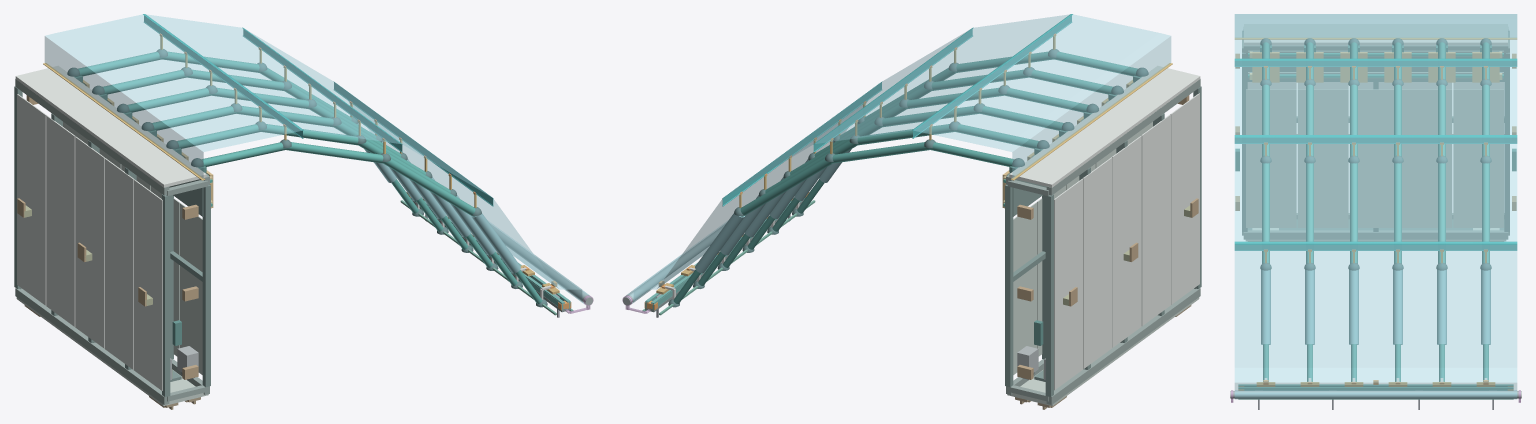
File: 01_deployed.glb
The picture shows the model from 3 angles, left to right: view 1: azimuth 30°, elevation 25°; view 2: azimuth 150°, elevation 25°; view 3: azimuth 270°, elevation 25°; orthographic projection. The views are drawn at different scales.
Visible parts, largest first — view 1: F04_CONTINUOUS_SINGLE_SHEET, M1_W01_P_wall_top_coping, M1_W01_P_outer_back_2, M1_W01_P_outer_back_4, M1_W01_P_outer_back_5, M1_W01_P_outer_back_1, M1_W01_P_outer_back_3, M1_W01_P_front_lower_1, M1_W01_F_long_0_0, M1_W01_F_post_1_0, M1_W01_F_post_0_0, F04_web3 (+24 smaller); view 2: F04_CONTINUOUS_SINGLE_SHEET, M1_W01_P_wall_top_coping, M1_W01_P_outer_back_2, M1_W01_P_outer_back_4, M1_W01_P_outer_back_5, M1_W01_P_outer_back_3, M1_W01_P_outer_back_1, M1_W01_P_front_lower_5, M1_W01_F_long_0_0, M1_W01_F_post_0_4, M1_W01_F_post_1_4, M1_W01_F_long_0_1 (+23 smaller); view 3: F04_CONTINUOUS_SINGLE_SHEET, M1_W01_P_front_lower_2, M1_W01_P_front_lower_1, M1_W01_P_front_lower_5, M1_W01_P_front_lower_4, M1_W01_P_wall_top_coping, M1_W01_P_front_lower_3, F04_front_roll_core, M1_W01_F_long_1_0, F04_web1, F04_web2, F04_web3 (+46 smaller).
Part boxes in pixels (bbox=[...]): F04_CONTINUOUS_SINGLE_SHEET: bbox=[45, 14, 589, 303]; M1_W01_P_wall_top_coping: bbox=[15, 66, 206, 187]; M1_W01_P_outer_back_2: bbox=[104, 158, 133, 369]; M1_W01_P_outer_back_4: bbox=[46, 115, 75, 326]; M1_W01_P_outer_back_5: bbox=[17, 94, 46, 305]; M1_W01_P_outer_back_1: bbox=[133, 179, 162, 390]; M1_W01_P_outer_back_3: bbox=[75, 136, 104, 348]; M1_W01_P_front_lower_1: bbox=[179, 203, 202, 374]; M1_W01_F_long_0_0: bbox=[15, 288, 169, 404]; M1_W01_F_post_1_0: bbox=[202, 184, 210, 387]; M1_W01_F_post_0_0: bbox=[162, 194, 170, 396]; F04_web3: bbox=[334, 82, 493, 205]; F04_CONTINUOUS_SINGLE_SHEET: bbox=[626, 14, 1170, 303]; M1_W01_P_wall_top_coping: bbox=[1009, 66, 1200, 187]; M1_W01_P_outer_back_2: bbox=[1141, 114, 1170, 326]; M1_W01_P_outer_back_4: bbox=[1083, 157, 1112, 368]; M1_W01_P_outer_back_5: bbox=[1054, 178, 1083, 390]; M1_W01_P_outer_back_3: bbox=[1112, 136, 1141, 347]; M1_W01_P_outer_back_1: bbox=[1170, 93, 1199, 304]; M1_W01_P_front_lower_5: bbox=[1013, 202, 1037, 374]; M1_W01_F_long_0_0: bbox=[1046, 288, 1200, 404]; M1_W01_F_post_0_4: bbox=[1045, 194, 1053, 396]; M1_W01_F_post_1_4: bbox=[1005, 184, 1013, 387]; M1_W01_F_long_0_1: bbox=[1046, 79, 1200, 195]; F04_CONTINUOUS_SINGLE_SHEET: bbox=[1234, 14, 1517, 399]; M1_W01_P_front_lower_2: bbox=[1297, 89, 1348, 227]; M1_W01_P_front_lower_1: bbox=[1246, 89, 1296, 227]; M1_W01_P_front_lower_5: bbox=[1453, 89, 1503, 227]; M1_W01_P_front_lower_4: bbox=[1402, 89, 1452, 227]; M1_W01_P_wall_top_coping: bbox=[1244, 24, 1507, 45]; M1_W01_P_front_lower_3: bbox=[1349, 89, 1393, 227]; F04_front_roll_core: bbox=[1230, 391, 1521, 398]; M1_W01_F_long_1_0: bbox=[1243, 230, 1508, 239]; F04_web1: bbox=[1234, 60, 1517, 66]; F04_web2: bbox=[1234, 137, 1517, 142]; F04_web3: bbox=[1234, 245, 1517, 249].
Size of the model in its own units: 5.63 by 3.31 by 3.71.
